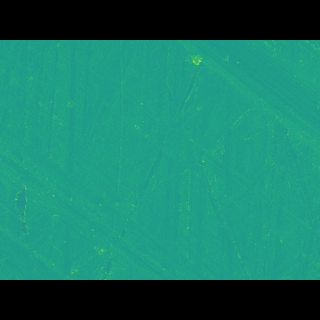Loch: (0, 134, 190, 250), (173, 69, 320, 155)
